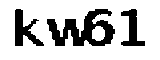1: (120, 5, 149, 53)
6: (85, 6, 115, 49)
k: (11, 6, 45, 50)
w: (44, 15, 86, 48)
